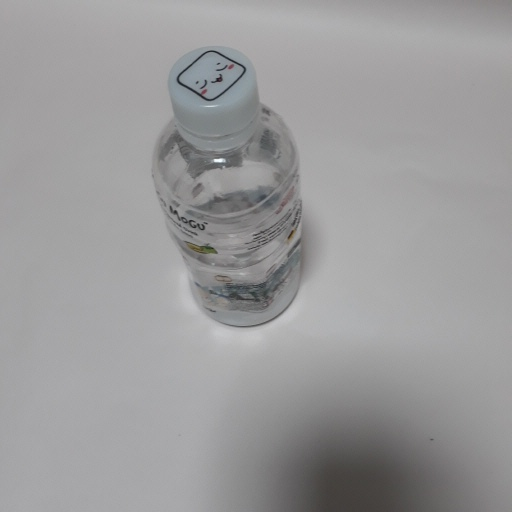Plastic_0: (153, 46, 309, 332)
